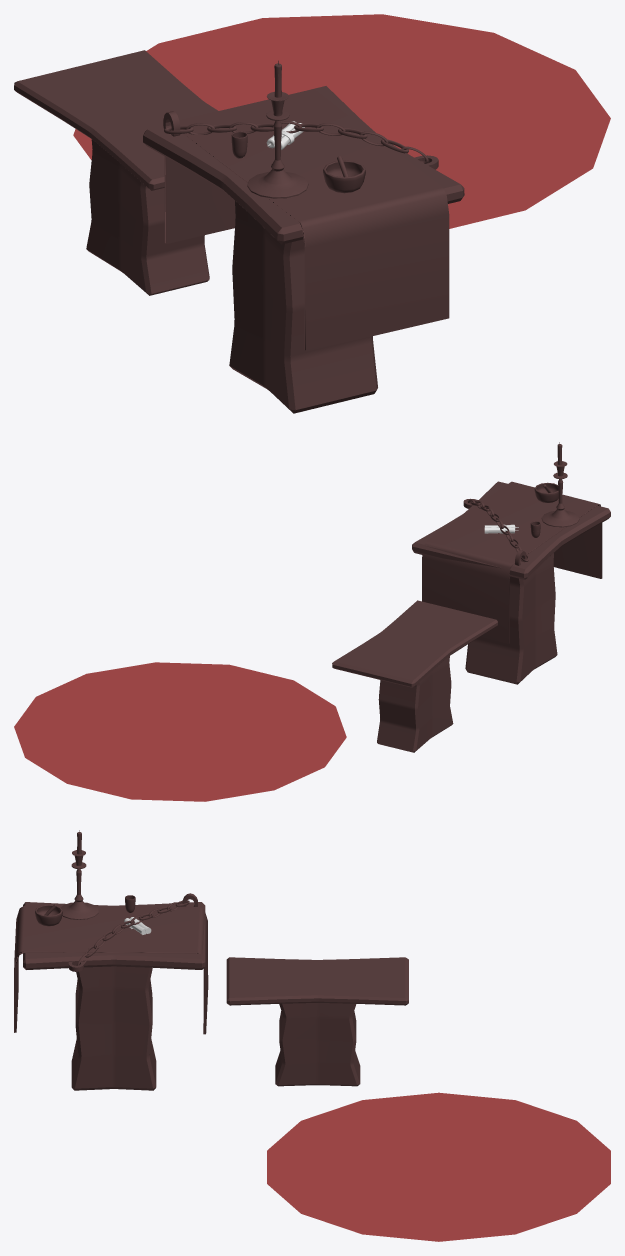
File: Altares.fbx
3 views of the same model, one above another, from view 1: azimuth 30°, elevation 25°; view 2: azimuth 150°, elevation 25°; view 3: azimuth 270°, elevation 25° (orthographic). The views are drawn at different scales.
Visible parts, largest first — view 1: Ritual, TableCloth, Altar3, Altar, Candleholder, Chains, mortero; view 2: Ritual, TableCloth, Altar3, Altar, Candleholder; view 3: Ritual, Altar3, Altar, TableCloth, Candleholder, Chains.
Part boxes in pixels (x1=…): Ritual: x1=73, y1=14, x2=610, y2=228; TableCloth: x1=164, y1=89, x2=449, y2=351; Altar3: x1=14, y1=50, x2=217, y2=295; Altar: x1=143, y1=86, x2=464, y2=413; Candleholder: x1=247, y1=92, x2=308, y2=198; Chains: x1=164, y1=121, x2=428, y2=163; mortero: x1=323, y1=160, x2=365, y2=193; Ritual: x1=14, y1=662, x2=346, y2=801; TableCloth: x1=422, y1=481, x2=602, y2=643; Altar3: x1=332, y1=600, x2=497, y2=752; Altar: x1=412, y1=481, x2=610, y2=684; Candleholder: x1=541, y1=461, x2=579, y2=527; Ritual: x1=267, y1=1092, x2=610, y2=1241; Altar3: x1=226, y1=957, x2=408, y2=1086; Altar: x1=23, y1=902, x2=205, y2=1090; TableCloth: x1=14, y1=905, x2=208, y2=1034; Candleholder: x1=61, y1=850, x2=98, y2=919; Chains: x1=77, y1=900, x2=189, y2=965.
Size of the model in its own units: 2.88 by 1.59 by 3.71.
